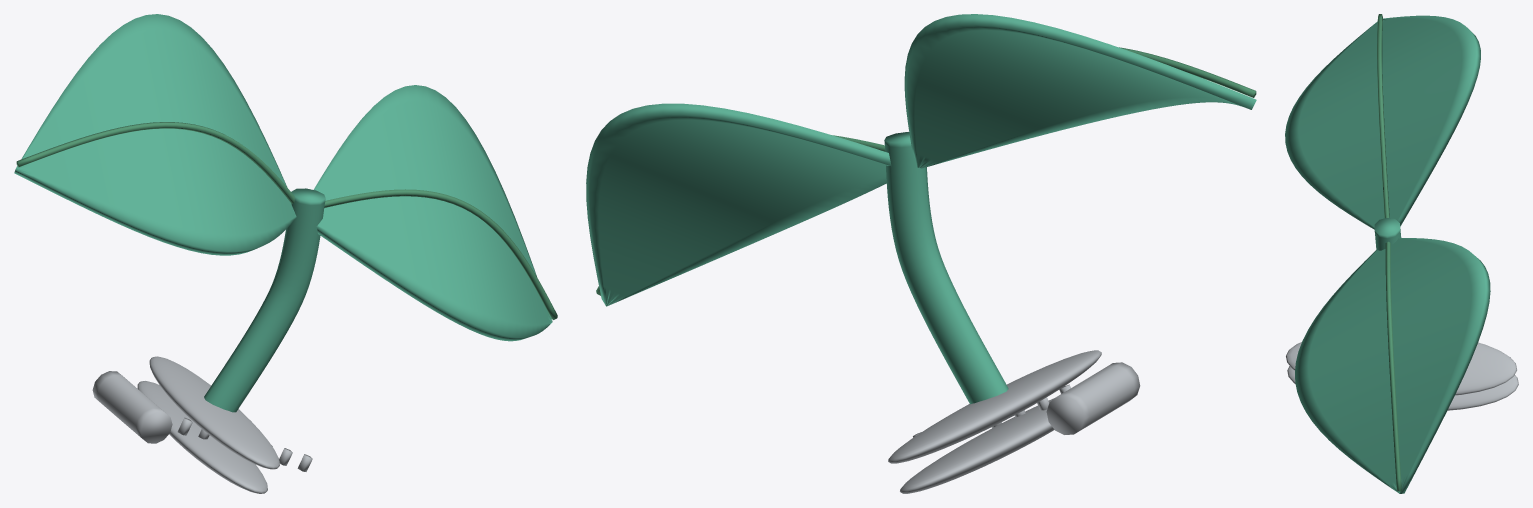
The model's file is Masculine-taper-sprout.glb.
3 views of the same model, side by side, from view 1: azimuth 30°, elevation 25°; view 2: azimuth 150°, elevation 25°; view 3: azimuth 270°, elevation 25° (orthographic). The views are drawn at different scales.
Visible parts, largest first — view 1: 226 extra / Accessory / mint226, 226 extra / Sprout / clip silver235, 226 extra / Sprout / leaf vein235; view 2: 226 extra / Accessory / mint226, 226 extra / Sprout / clip silver235, 226 extra / Sprout / leaf vein235; view 3: 226 extra / Accessory / mint226, 226 extra / Sprout / clip silver235, 226 extra / Sprout / leaf vein235.
Boxes of the visible parts, left/top/right/bottom form: 226 extra / Accessory / mint226: left=14, top=14, right=552, bottom=412; 226 extra / Sprout / clip silver235: left=92, top=356, right=312, bottom=493; 226 extra / Sprout / leaf vein235: left=16, top=122, right=557, bottom=319; 226 extra / Accessory / mint226: left=586, top=14, right=1256, bottom=404; 226 extra / Sprout / clip silver235: left=888, top=350, right=1140, bottom=493; 226 extra / Sprout / leaf vein235: left=596, top=47, right=1256, bottom=295; 226 extra / Accessory / mint226: left=1285, top=15, right=1490, bottom=493; 226 extra / Sprout / clip silver235: left=1286, top=342, right=1518, bottom=410; 226 extra / Sprout / leaf vein235: left=1377, top=14, right=1401, bottom=491.
Bounding box in the file's own units: 0.2004 × 0.1526 × 0.0869.
